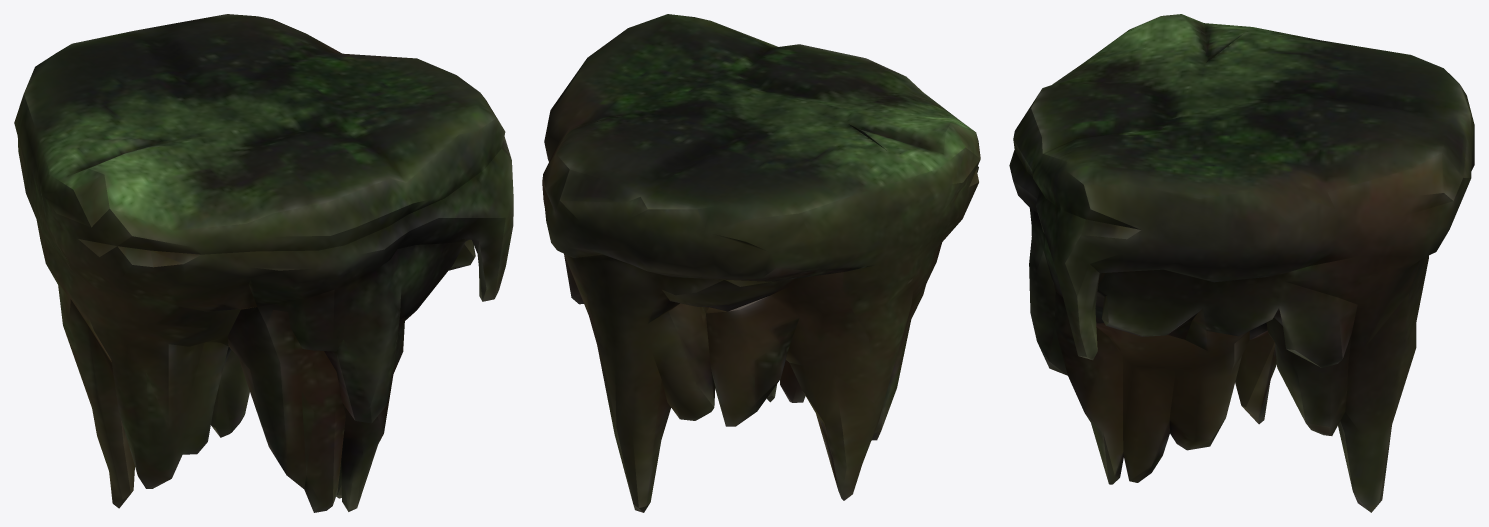
Rendered from FlatingPlat.fbx.
3 renders of one model, left to right at view 1: azimuth 30°, elevation 25°; view 2: azimuth 150°, elevation 25°; view 3: azimuth 270°, elevation 25°, orthographic. The views are drawn at different scales.
Visible parts, largest first — view 1: FlotingPlat; view 2: FlotingPlat; view 3: FlotingPlat.
Boxes of the visible parts, bbox=[...] form: FlotingPlat: bbox=[14, 14, 513, 512]; FlotingPlat: bbox=[542, 14, 980, 512]; FlotingPlat: bbox=[1009, 14, 1474, 512].
Size of the model in its own units: 16.94 by 15.78 by 16.78.
Materials: 1 (1 with a texture image).
